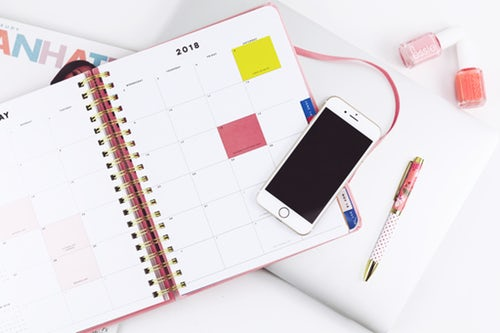phone: (255, 93, 378, 235)
